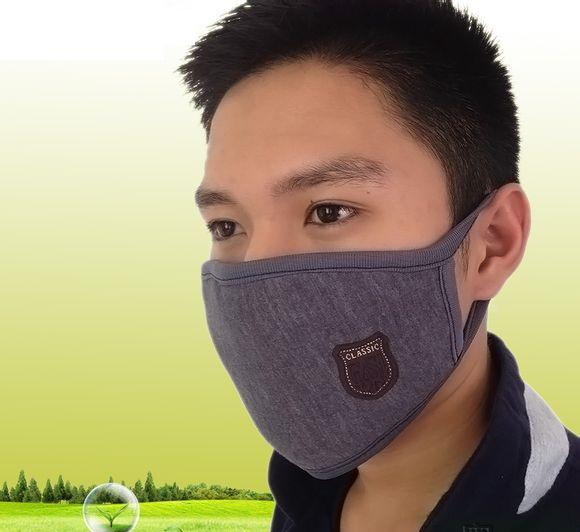OK: (196, 152, 507, 469)
